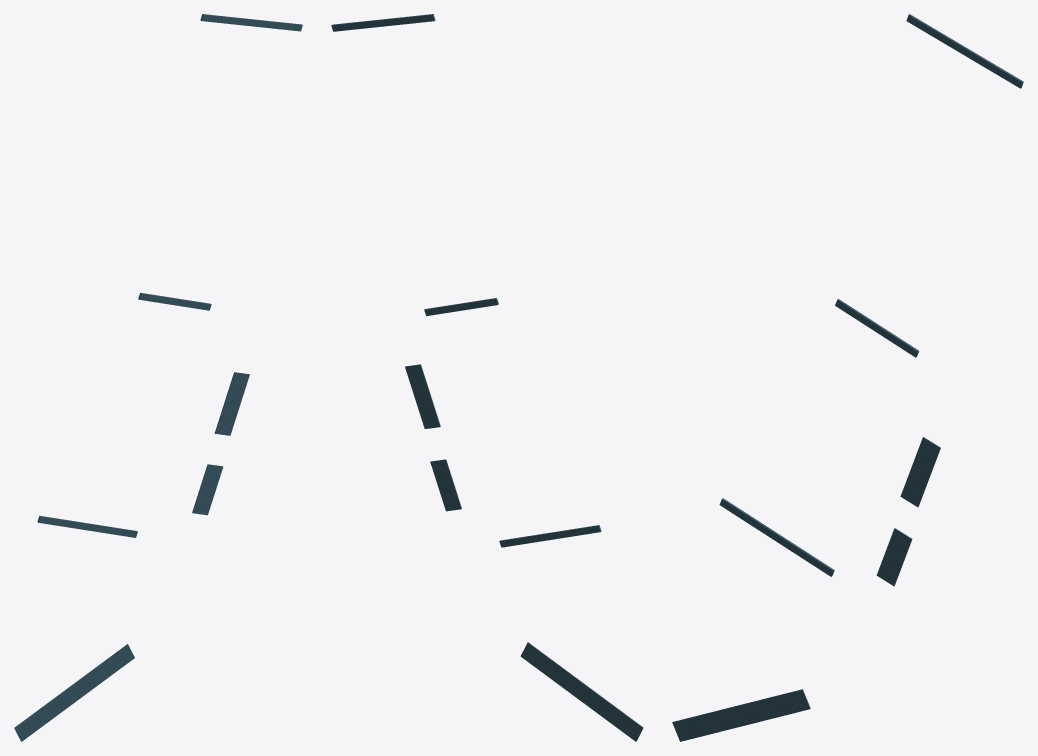
Rendered from gaogongdao_styled_roof.obj.
The picture shows the model from 3 angles, left to right: view 1: azimuth 30°, elevation 25°; view 2: azimuth 150°, elevation 25°; view 3: azimuth 330°, elevation 25°; orthographic projection. The views are drawn at different scales.
Parts seen in each view (by area): view 1: harbor; view 2: harbor; view 3: harbor.
Part boxes in pixels (x1=…): harbor: x1=14, y1=14, x2=302, y2=741; harbor: x1=331, y1=14, x2=643, y2=741; harbor: x1=672, y1=14, x2=1023, y2=741.
Bounding box in the file's own units: 100 × 218 × 6.11.
1 material, 1 textured.
